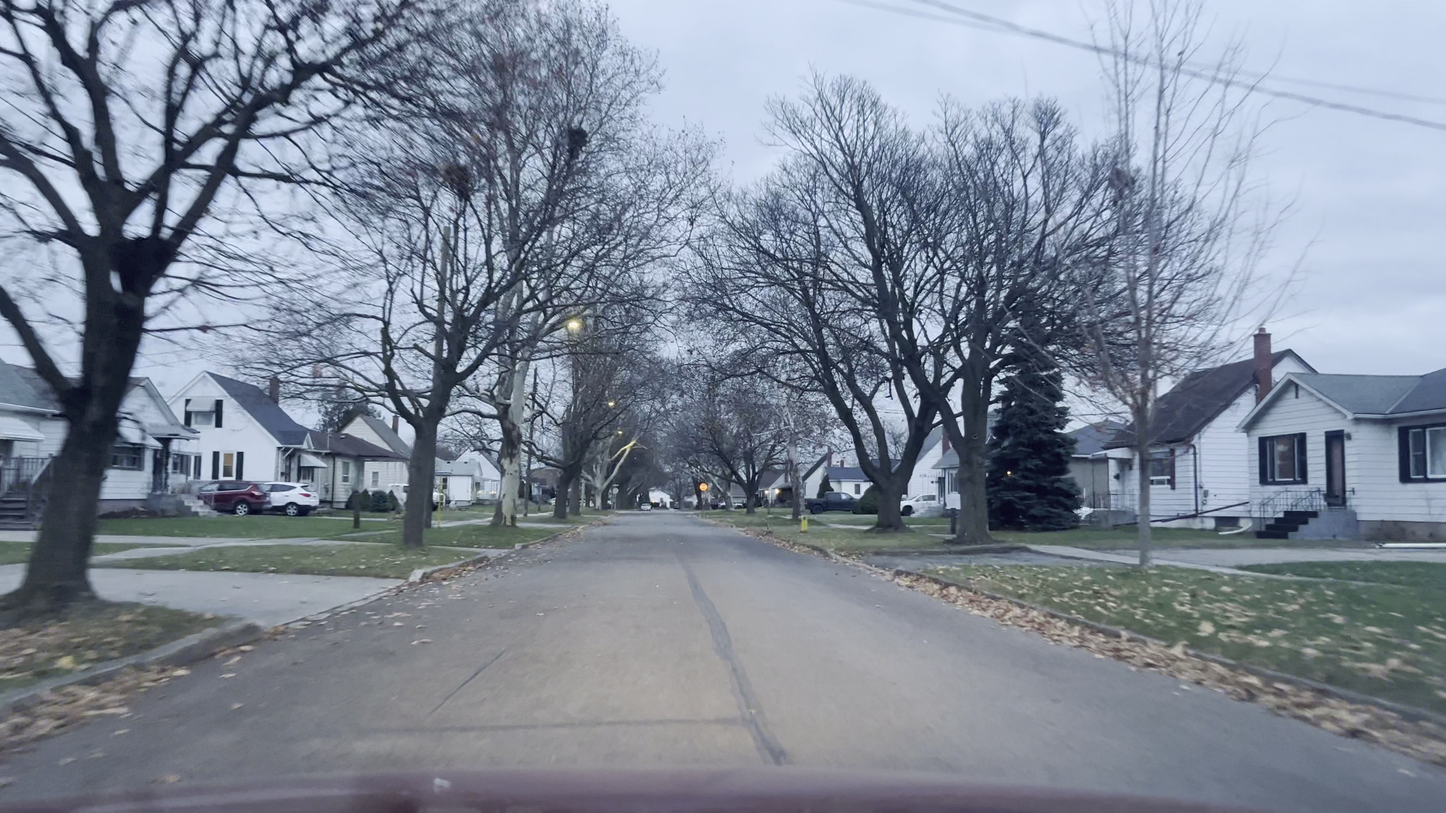cracks: (668, 565, 801, 758), (364, 694, 705, 747)
